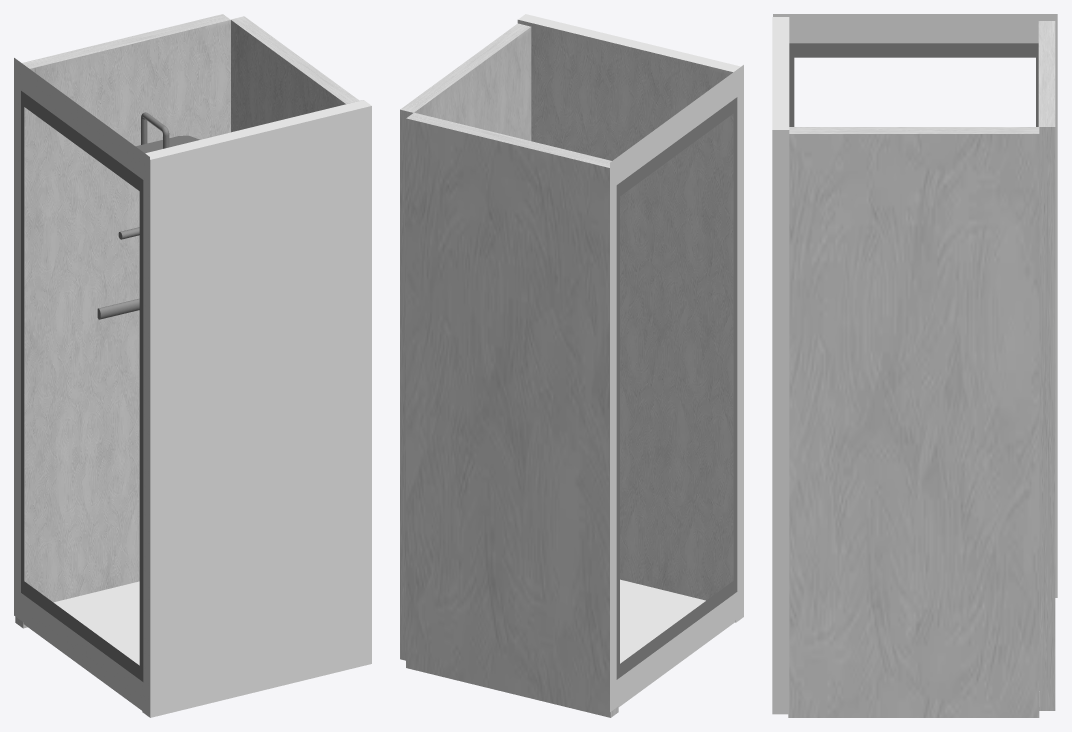
File: kinewall-5-transformed.glb
The picture shows the model from 3 angles, left to right: view 1: azimuth 30°, elevation 25°; view 2: azimuth 150°, elevation 25°; view 3: azimuth 270°, elevation 25°; orthographic projection. The views are drawn at different scales.
Parts seen in each view (by area): view 1: kinewall, kinewall-back; view 2: kinewall-back, kinewall; view 3: kinewall-back, kinewall.
Part boxes in pixels (x1,y1,x2,y2): kinewall: [14, 58, 371, 717]; kinewall-back: [15, 14, 361, 628]; kinewall-back: [400, 20, 735, 717]; kinewall: [518, 14, 743, 711]; kinewall-back: [788, 21, 1055, 717]; kinewall: [772, 14, 1057, 714].
Bounding box in the file's own units: 3.2 × 7.79 × 3.41.
Materials: 4 (1 with a texture image).
